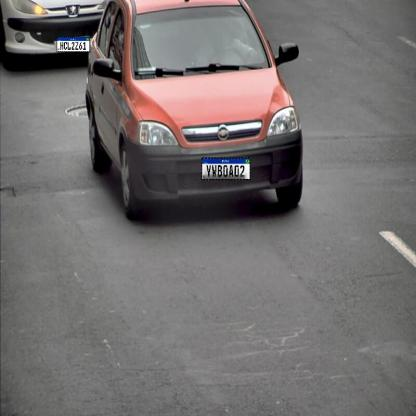PlacaM: (201, 158, 251, 180), (57, 37, 90, 52)
